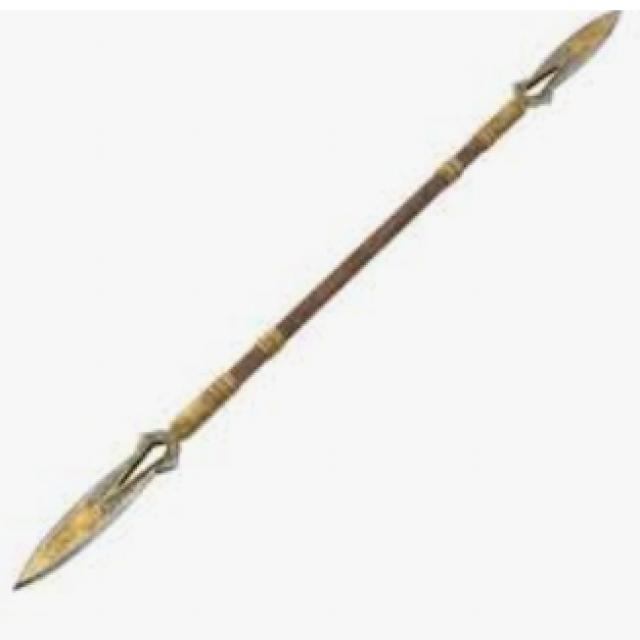spear: (8, 2, 624, 606)
